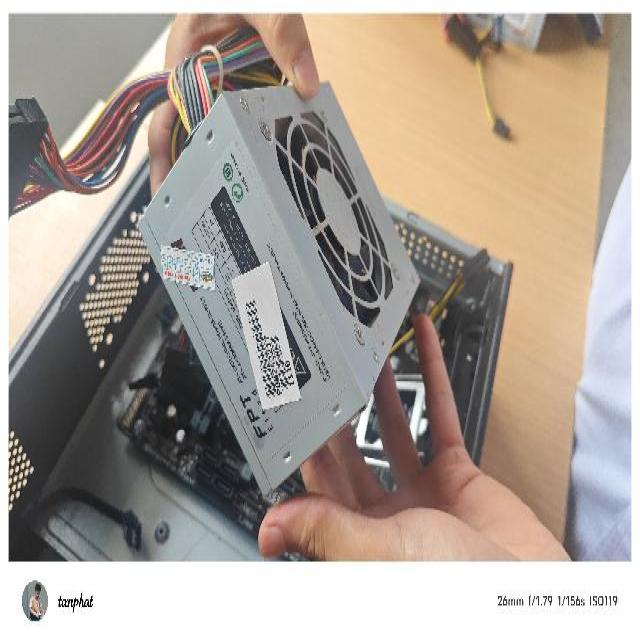PSU: (134, 71, 422, 502)
